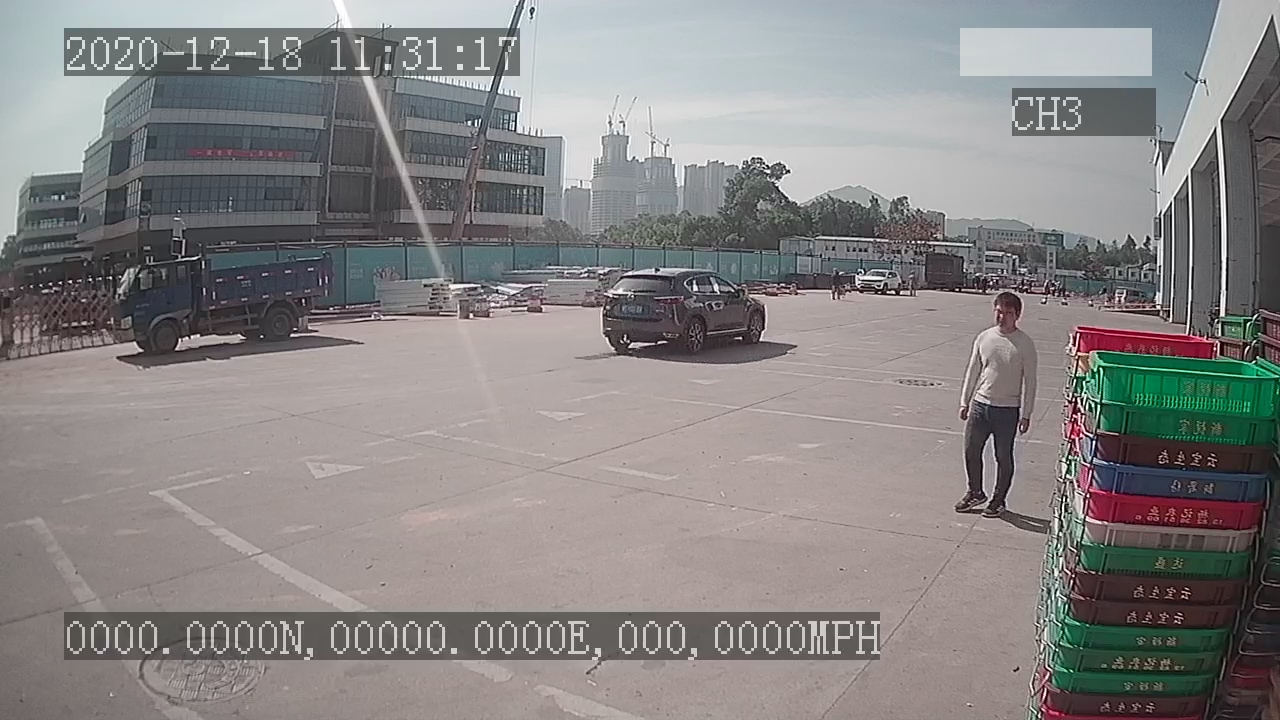person: (951, 290, 1041, 518)
